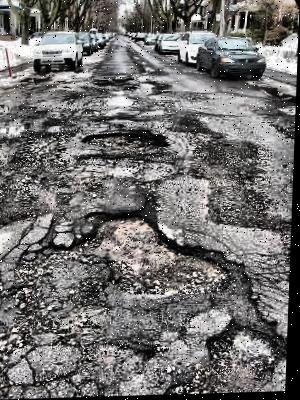pothole: (67, 202, 240, 298), (206, 322, 283, 375), (80, 130, 168, 156)
